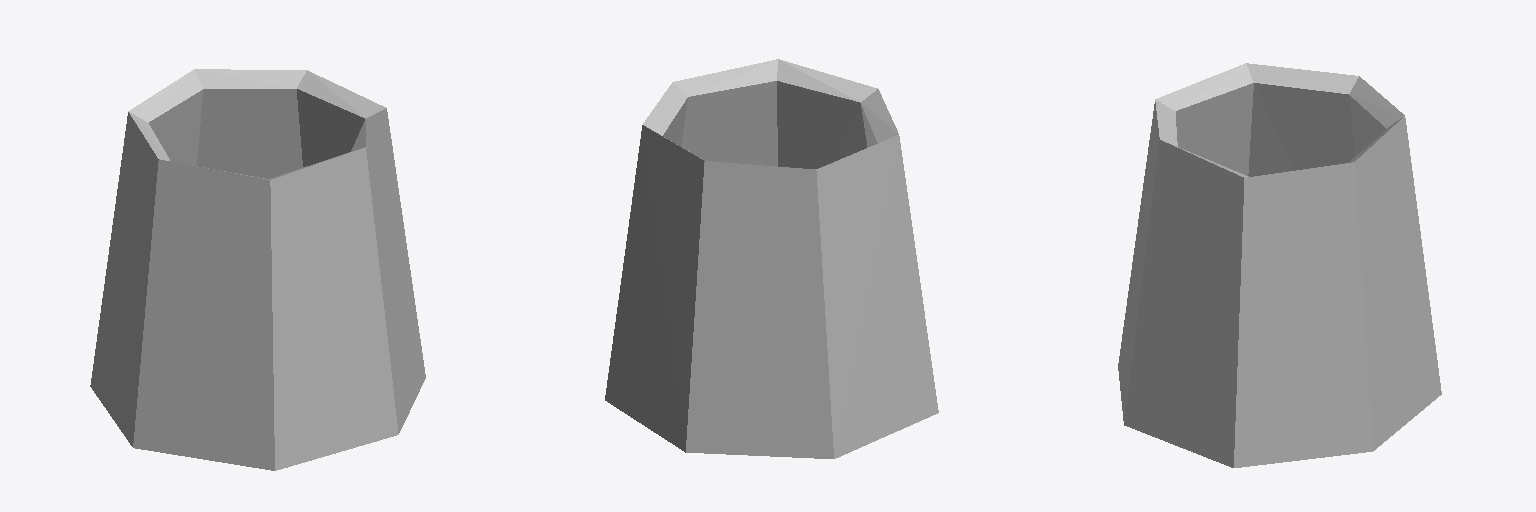
Rendered from lamp3.obj.
3 renders of one model, left to right at view 1: azimuth 30°, elevation 25°; view 2: azimuth 150°, elevation 25°; view 3: azimuth 270°, elevation 25°, orthographic.
Size of the model in its own units: 0.6901 by 0.6317 by 0.6587.